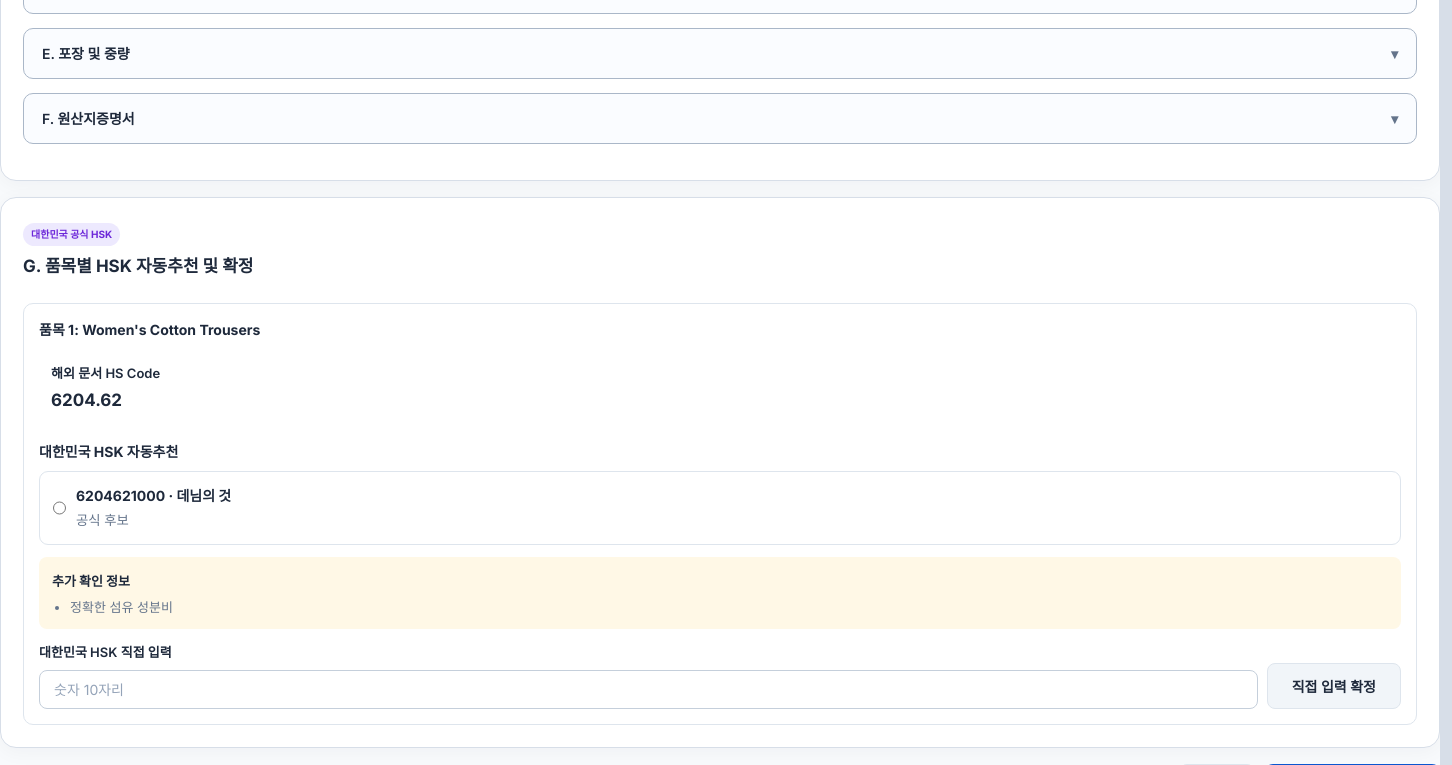
Test case: 수입-화주 대한민국 HSK UI › 공식 목록에 없는 직접 입력은 오류를 표시하고 confirmedHSCode를 변경하지 않는다
(page scrolled)
In the field with placeholder "숫자 10자리": (648, 690) [39,670,1258,709], type "9999999999"
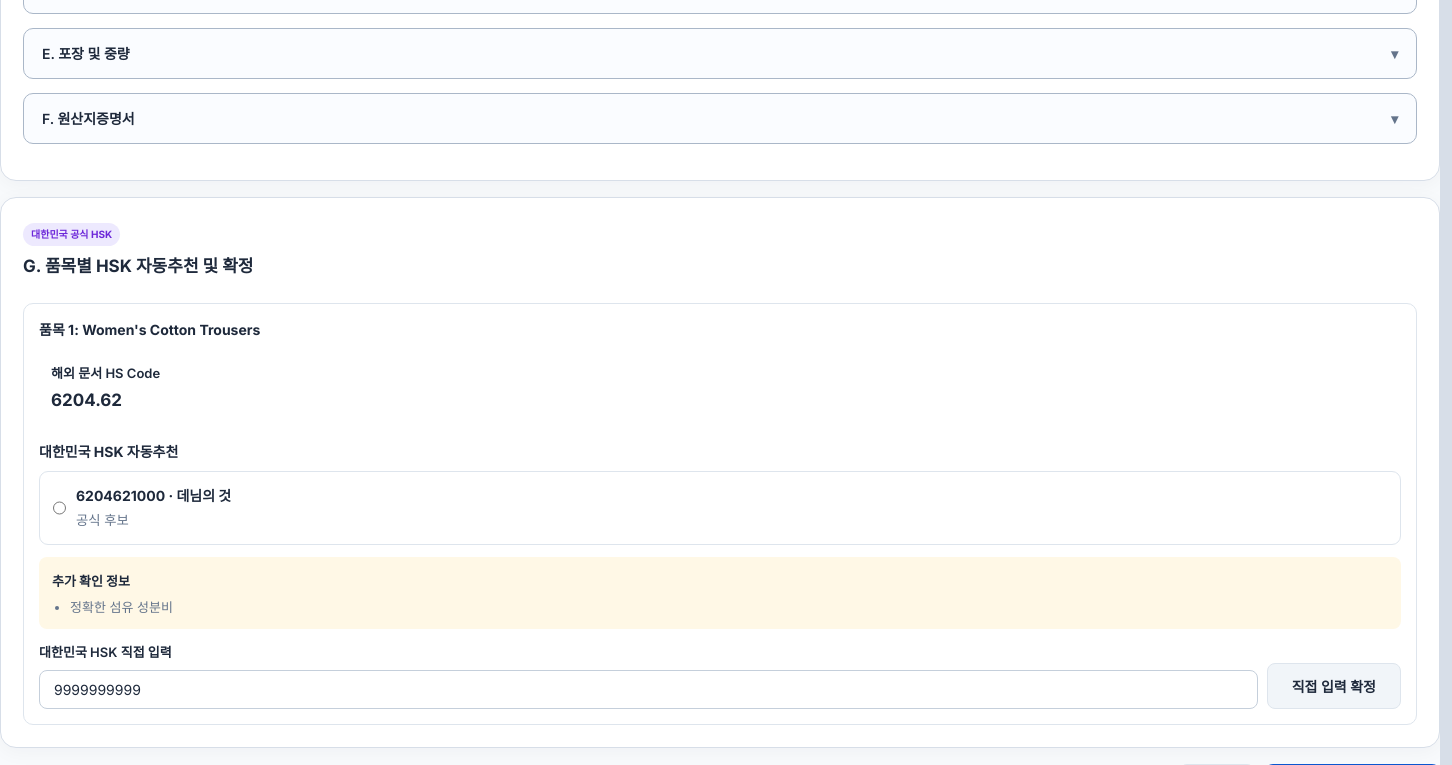
Click the button "직접 입력 확정": (1334, 686) [1267,663,1401,709]
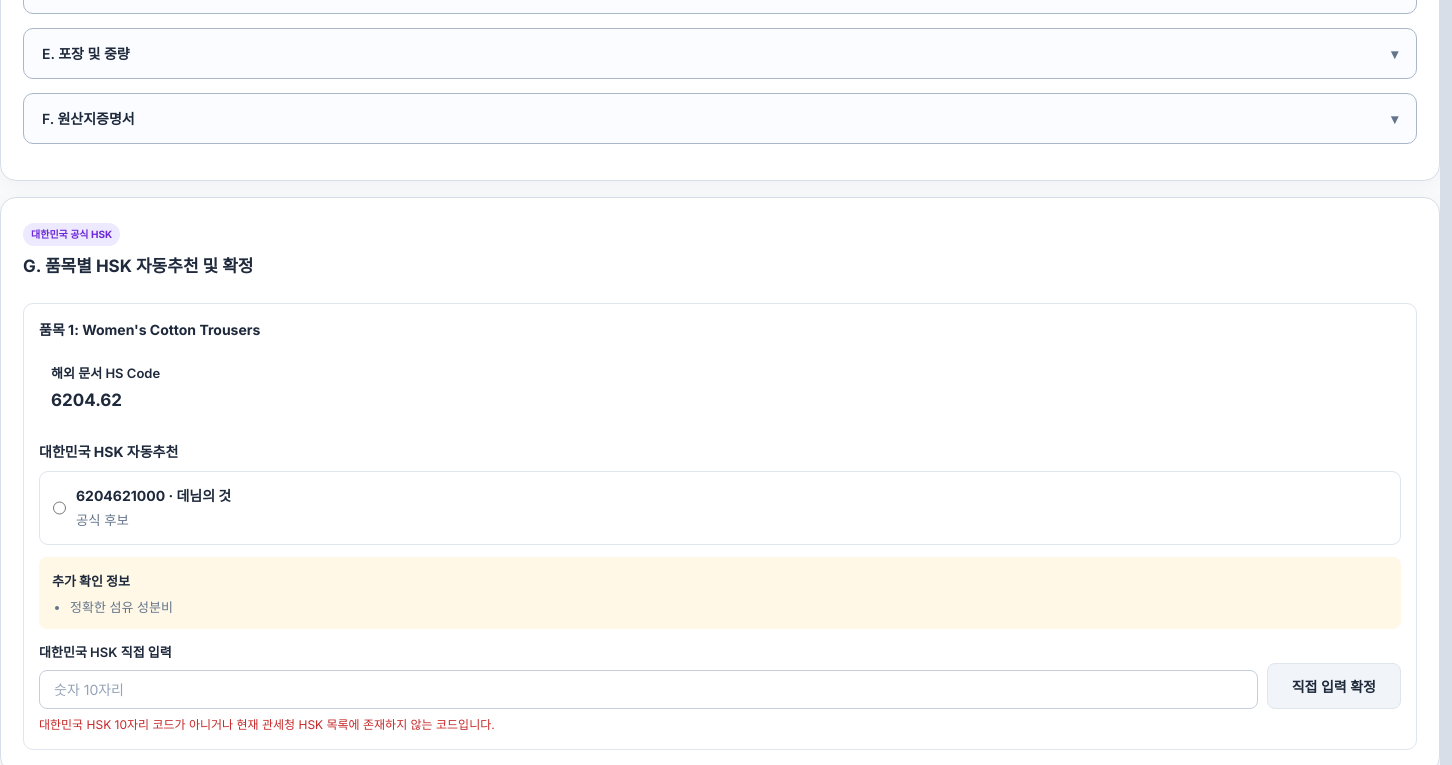
Expected: the message "대한민국 HSK 10자리 코드가 아니거나 현재 관세청 HSK 목록에 존재하지 않는 코드입니다." is shown, [39,717,495,732]
